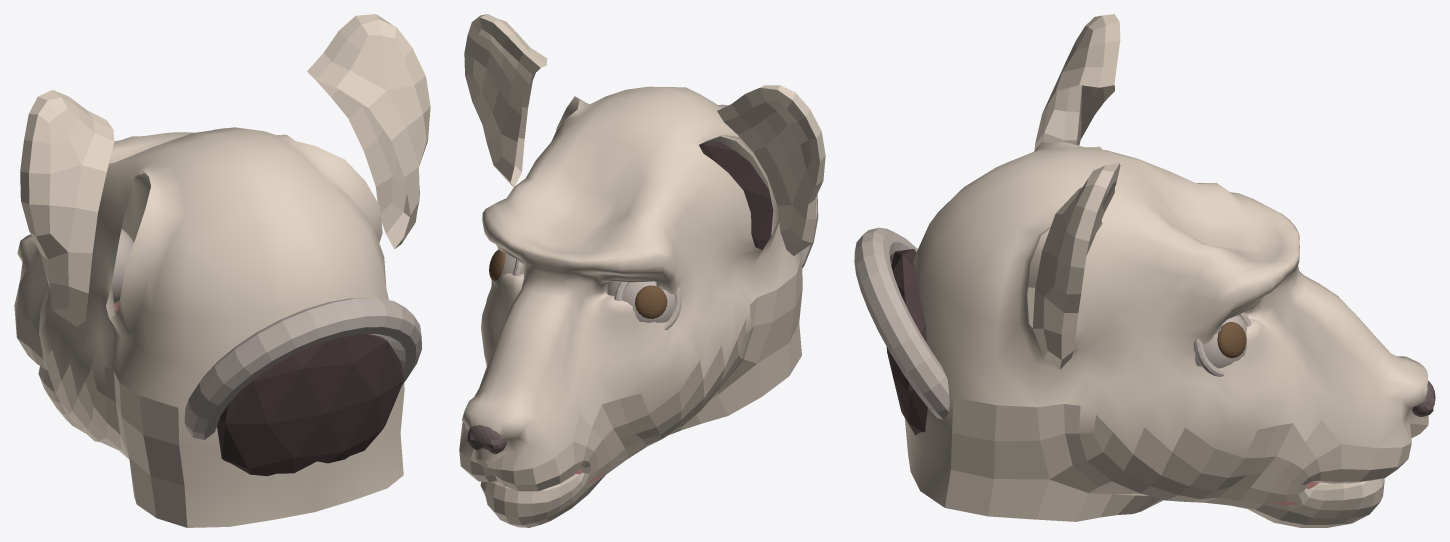
File: neutral_base_head_v3.glb
3 views of the same model, side by side, from view 1: azimuth 30°, elevation 25°; view 2: azimuth 150°, elevation 25°; view 3: azimuth 270°, elevation 25° (orthographic). The views are drawn at different scales.
Visible parts, largest first — view 1: TissueHead, NeckSocketDisc, Ear_L, Ear_R, Jaw, NeckSocket, Eyelid_R; view 2: TissueHead, Jaw, Ear_R, Ear_L, NeckSocketDisc, Eyelid_R, Iris_R, NoseLeather, LidMargin_R; view 3: TissueHead, Jaw, Ear_L, NeckSocket, Ear_R, NeckSocketDisc, Iris_L, Eyelid_L.
Boxes of the visible parts, x1,y1,x2,y2 form: TissueHead: (14, 127, 404, 527); NeckSocketDisc: (217, 334, 403, 476); Ear_L: (307, 14, 430, 248); Ear_R: (20, 90, 114, 326); Jaw: (14, 306, 187, 527); NeckSocket: (184, 298, 421, 439); Eyelid_R: (111, 229, 133, 303); TissueHead: (459, 86, 801, 470); Jaw: (459, 256, 802, 527); Ear_R: (717, 85, 825, 255); Ear_L: (464, 14, 547, 187); NeckSocketDisc: (699, 141, 773, 249); Eyelid_R: (607, 281, 675, 322); Iris_R: (635, 285, 667, 318); NoseLeather: (467, 425, 507, 454); LidMargin_R: (614, 281, 681, 329); TissueHead: (904, 142, 1428, 507); Jaw: (945, 287, 1427, 527); Ear_L: (1032, 163, 1120, 369); NeckSocket: (854, 227, 949, 419); Ear_R: (1034, 14, 1120, 149); NeckSocketDisc: (886, 249, 927, 435); Iris_L: (1217, 322, 1246, 358); Eyelid_L: (1194, 315, 1246, 368).
Size of the model in its own units: 0.8408 by 0.8994 by 1.1.
